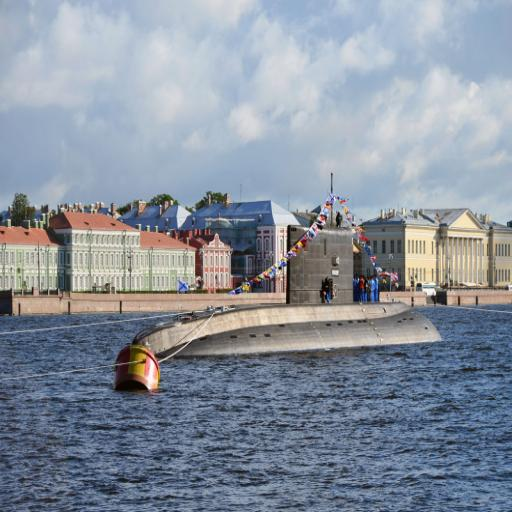submarine: (132, 227, 448, 362)
